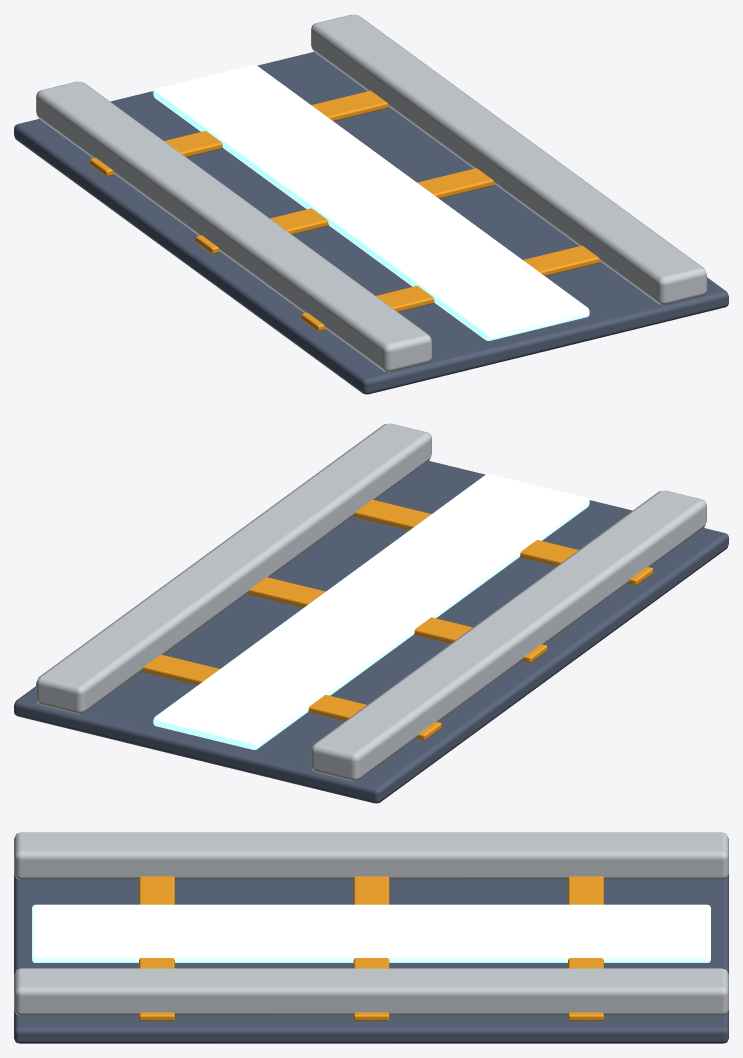
The model's file is hero-shooter-harbour-payload-track-payload-straight-14ba5681__27686.glb.
The picture shows the model from 3 angles, top to bottom: view 1: azimuth 30°, elevation 25°; view 2: azimuth 150°, elevation 25°; view 3: azimuth 270°, elevation 25°; orthographic projection.
Visible parts, largest first — view 1: track-payload-straight; view 2: track-payload-straight; view 3: track-payload-straight.
Boxes of the visible parts, x1,y1,x2,y2 form: track-payload-straight: [14, 14, 728, 394]; track-payload-straight: [14, 423, 728, 803]; track-payload-straight: [14, 832, 728, 1043].
Size of the model in its own units: 1.2 by 0.1401 by 2.
